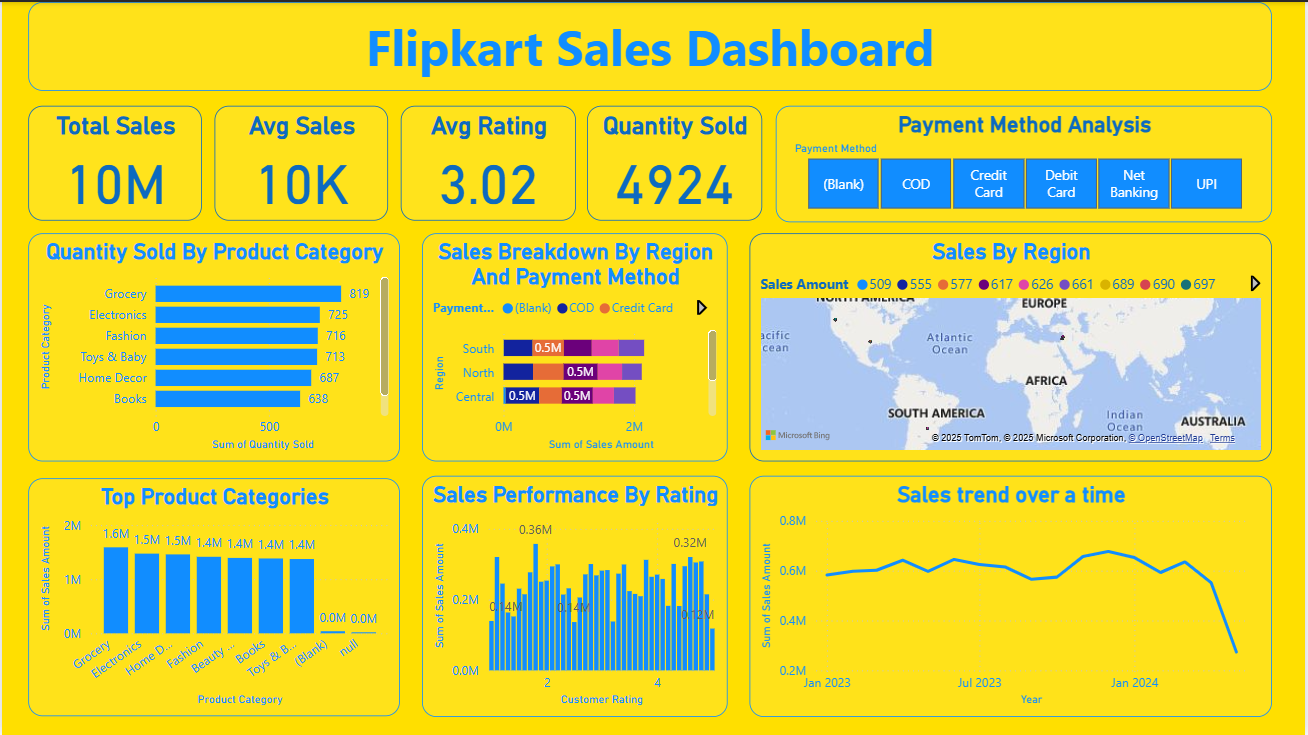

This screenshot's page, from the dashboard's own definition file:
{"tool":"powerbi","page":{"name":"Page 1","canvas":[1280,720],"ordinal":0},"visuals":[{"type":"card","title":"Total Sales","fields":{"Values":["Sum(Sheet1.Sales Amount)"]},"box":[25.4,101.4,170.4,112.7],"z":0},{"type":"card","title":"Avg Sales","fields":{"Values":["Avg(Sheet1.Sales Amount)"]},"box":[208.5,101.4,170.4,112.7],"z":1000},{"type":"card","title":"Avg  Rating","fields":{"Values":["Avg(Sheet1.Customer Rating)"]},"box":[391.5,101.4,171.8,112.7],"z":2000},{"type":"card","title":"Quantity Sold","fields":{"Values":["Sum(Sheet1.Quantity Sold)"]},"box":[574.6,101.4,171.8,112.7],"z":3000},{"type":"map","title":"Sales By Region","fields":{"Category":["Sheet1.Region"],"Series":["Sheet1.Sales Amount"]},"box":[733.8,226.8,512.7,223.9],"z":4000},{"type":"columnChart","title":"Top Product Categories","fields":{"Category":["Sheet1.Product Category"],"Y":["Sum(Sheet1.Sales Amount)"]},"box":[25.4,467.6,364.8,233.8],"z":5000},{"type":"lineChart","title":"Sales trend over a time","fields":{"Category":["Sheet1.Order Date.Variation.Date Hierarchy.Year","Sheet1.Order Date.Variation.Date Hierarchy.Quarter","Sheet1.Order Date.Variation.Date Hierarchy.Month","Sheet1.Order Date.Variation.Date Hierarchy.Day"],"Y":["Sum(Sheet1.Sales Amount)"]},"box":[733.8,464.8,512.7,236.6],"z":6000},{"type":"slicer","title":"Payment Method Analysis","fields":{"Values":["Sheet1.Payment Method"]},"box":[759.2,101.4,487.3,114.1],"z":7000},{"type":"clusteredBarChart","title":"Quantity Sold By Product Category","fields":{"Category":["Sheet1.Product Category"],"Y":["Sum(Sheet1.Quantity Sold)"]},"box":[25.4,226.8,364.8,223.9],"z":8000},{"type":"clusteredColumnChart","title":"Sales Performance By Rating","fields":{"Category":["Sheet1.Customer Rating"],"Y":["Sum(Sheet1.Sales Amount)"]},"box":[412.7,464.8,300,236.6],"z":9000},{"type":"barChart","title":"Sales Breakdown By Region And Payment Method","fields":{"Category":["Sheet1.Region"],"Y":["Sum(Sheet1.Sales Amount)"],"Series":["Sheet1.Payment Method"]},"box":[412.7,226.8,300,223.9],"z":10000},{"type":"textbox","box":[25.4,0,1221.1,87.3],"z":11000}]}

Visuals, with their boxes in screenshot pixels (x1, y1, x2, y2), scaled from the page's 1280x720 canvas onto the 1308x735 screenshot:
"Total Sales" card: region(26, 104, 200, 219)
"Avg Sales" card: region(213, 104, 387, 219)
"Avg  Rating" card: region(400, 104, 576, 219)
"Quantity Sold" card: region(587, 104, 763, 219)
"Sales By Region" map: region(750, 232, 1274, 460)
"Top Product Categories" columnChart: region(26, 477, 399, 716)
"Sales trend over a time" lineChart: region(750, 474, 1274, 716)
"Payment Method Analysis" slicer: region(776, 104, 1274, 220)
"Quantity Sold By Product Category" clusteredBarChart: region(26, 232, 399, 460)
"Sales Performance By Rating" clusteredColumnChart: region(422, 474, 728, 716)
"Sales Breakdown By Region And Payment Method" barChart: region(422, 232, 728, 460)
textbox: region(26, 0, 1274, 89)
